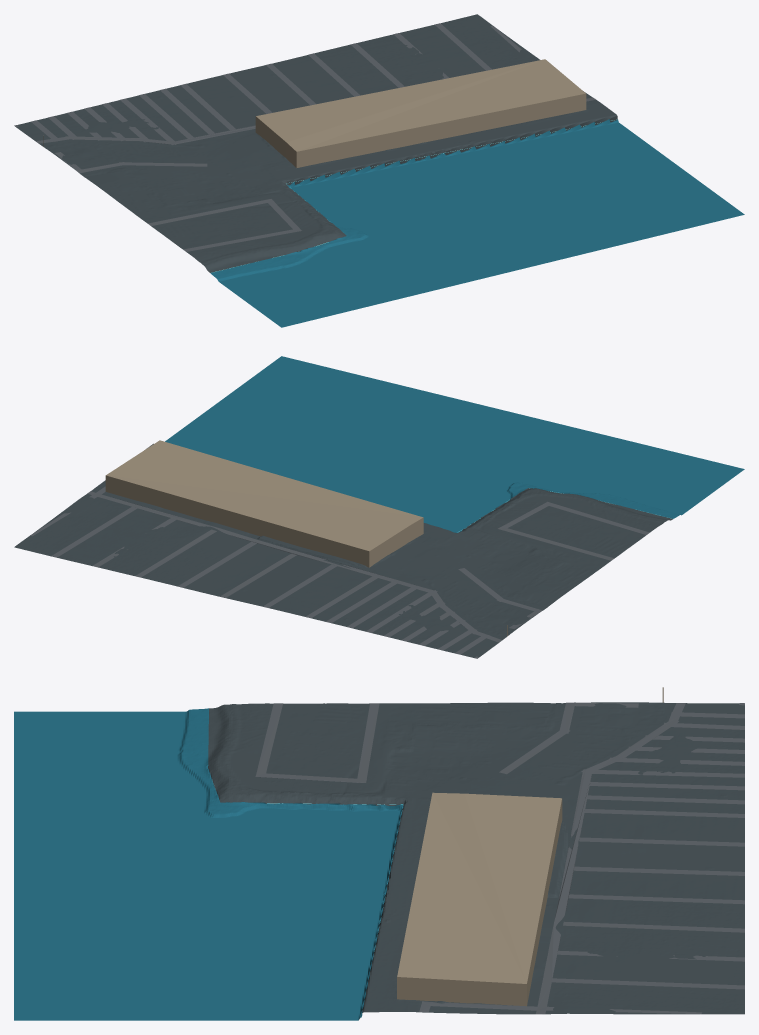
Rendered from epsg26910-1444-10881.lod0.glb.
3 views of the same model, one above another, from view 1: azimuth 30°, elevation 25°; view 2: azimuth 150°, elevation 25°; view 3: azimuth 270°, elevation 25° (orthographic). The views are drawn at different scales.
Parts seen in each view (by area): view 1: epsg26910-1444-10881-lod0; view 2: epsg26910-1444-10881-lod0; view 3: epsg26910-1444-10881-lod0.
Part boxes in pixels (x1,y1,x2,y2): epsg26910-1444-10881-lod0: [14, 14, 744, 327]; epsg26910-1444-10881-lod0: [14, 356, 744, 658]; epsg26910-1444-10881-lod0: [14, 687, 744, 1020].
Bounding box in the file's own units: 384 × 18.23 × 384.
